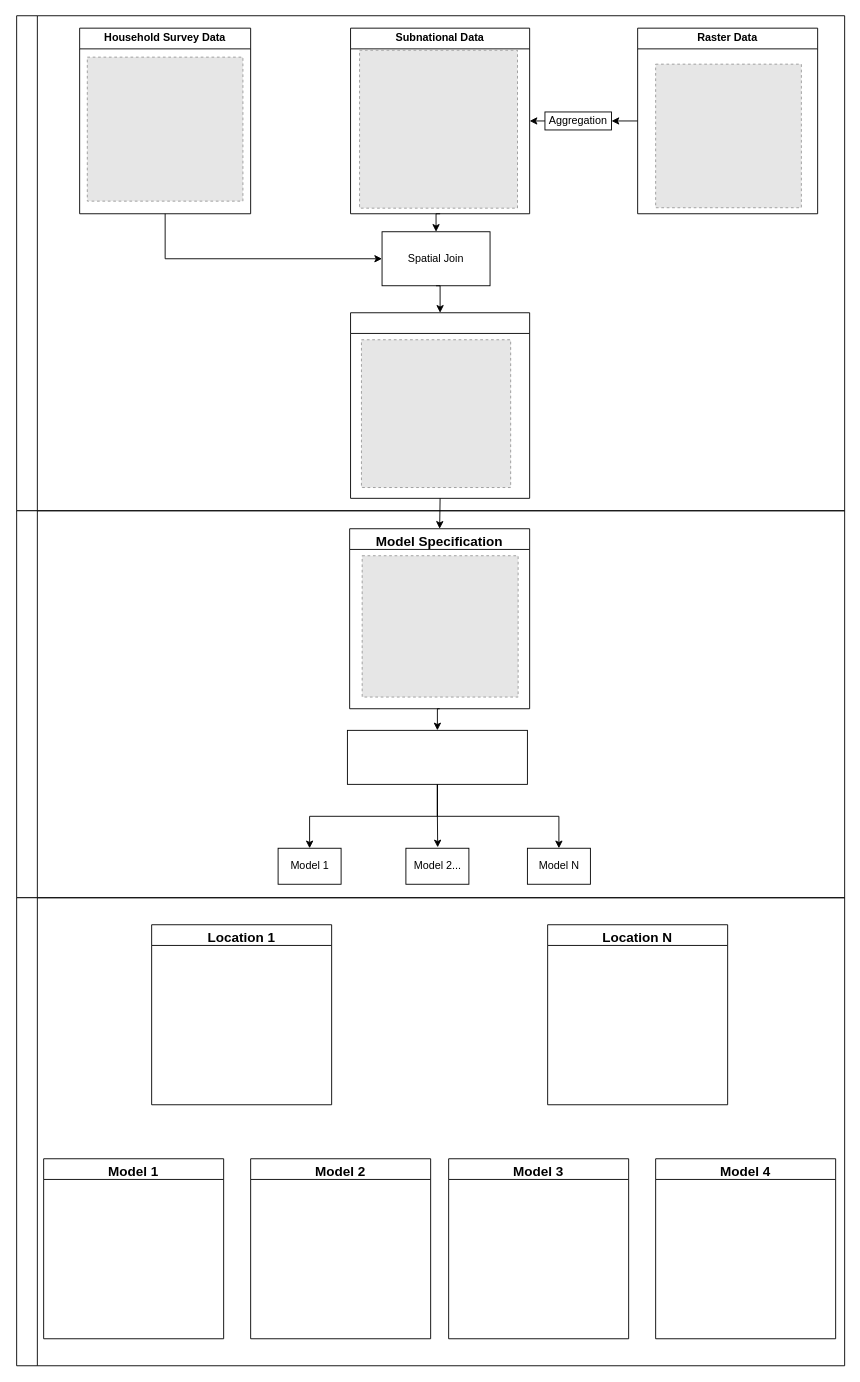
The diagram is 860 pixels wide and 1382 high, and some of its shapes have lost their labels. Grey dashed boxes stand in for pictures. The box of each missing label's shape, as (x1, y1, x2, y2) in pixels:
Combined Data: (350, 312, 530, 498)
Data Preparation: (16, 15, 845, 511)
Modelling: (16, 510, 845, 898)
Predict and Compare: (16, 897, 845, 1366)
Stepwise Variable Selection: (346, 729, 527, 784)
